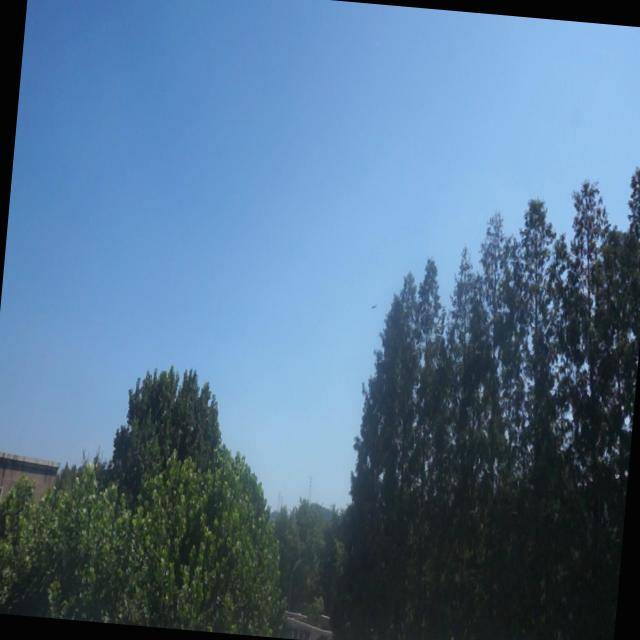drone: (366, 298, 380, 314)
